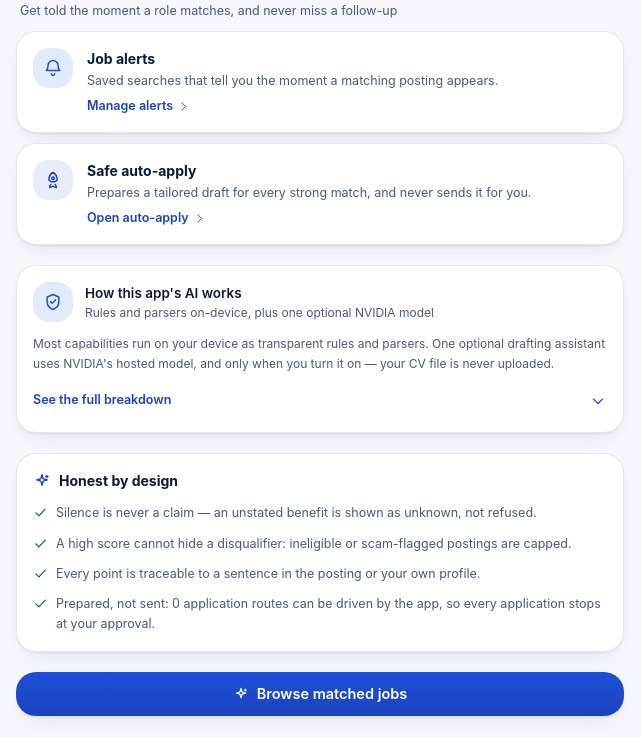
Test: AiScreen AI transparency › summarises the catalogue and expands to the full, labelled breakdown
The image size is (641, 737).
(page scrolled)
Expected: the text "How this app's AI works" is shown, [85,285,242,301]
Expected: the text "Rules and parsers on-device, plus one optional NVIDIA model" is shown, [85,304,434,322]
Click the button "See the full breakdown": (102, 400) [33,385,607,416]
(page scrolled)
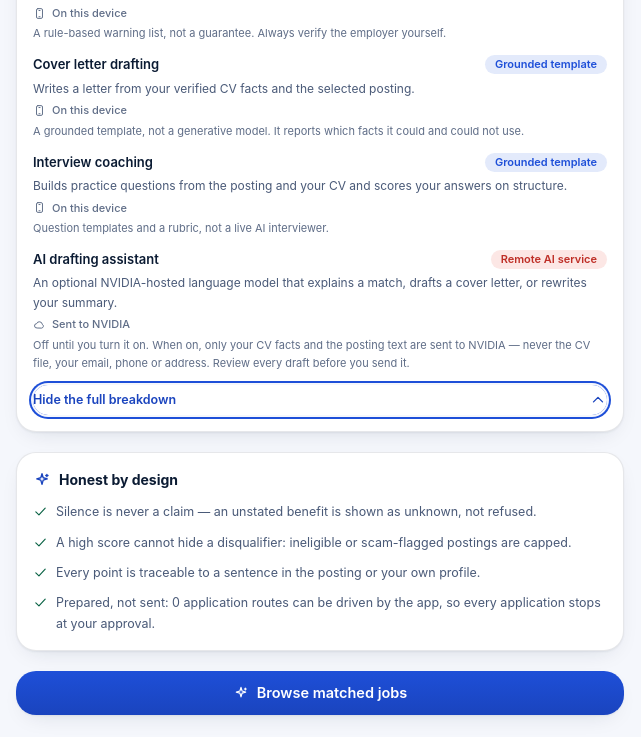
Expected: the text "AI drafting assistant" is shown, [33,251,159,267]
Expected: the text "Sent to NVIDIA" is shown, [52,316,130,333]
Expected: the button "Hide the full breakdown" is shown, [33,385,607,416]
